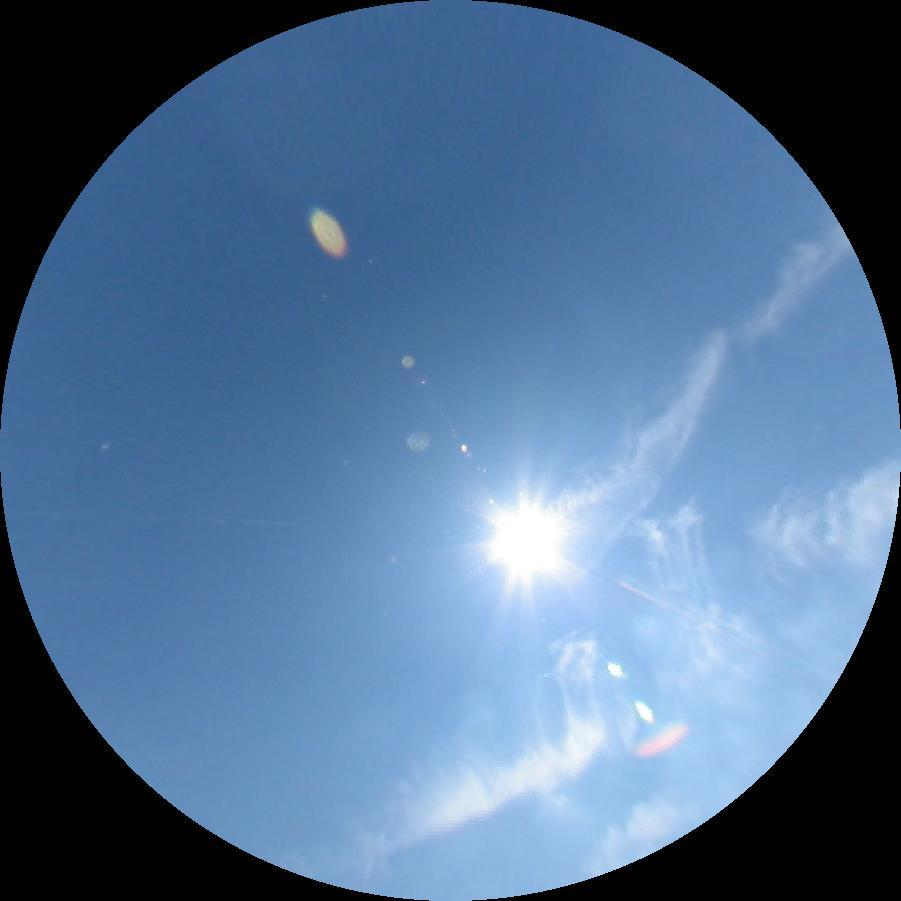contrail veryold: (514, 201, 869, 593)
parasite: (612, 574, 772, 659)
sun: (484, 497, 567, 579)
